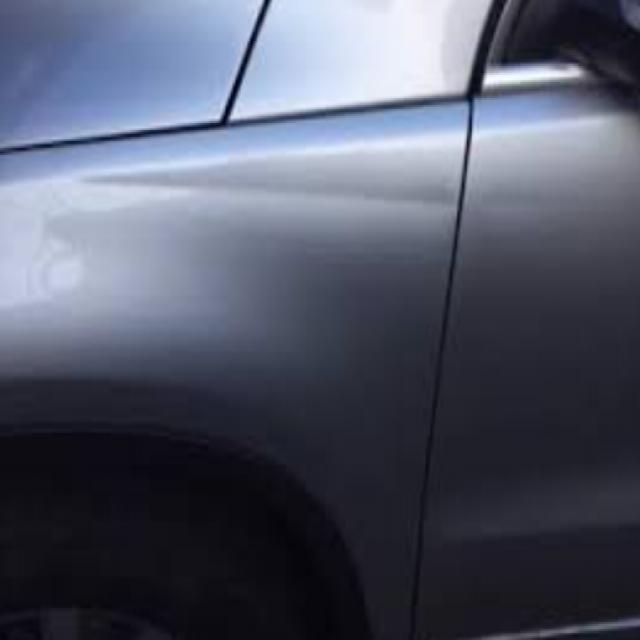dents: (487, 182, 590, 234)
